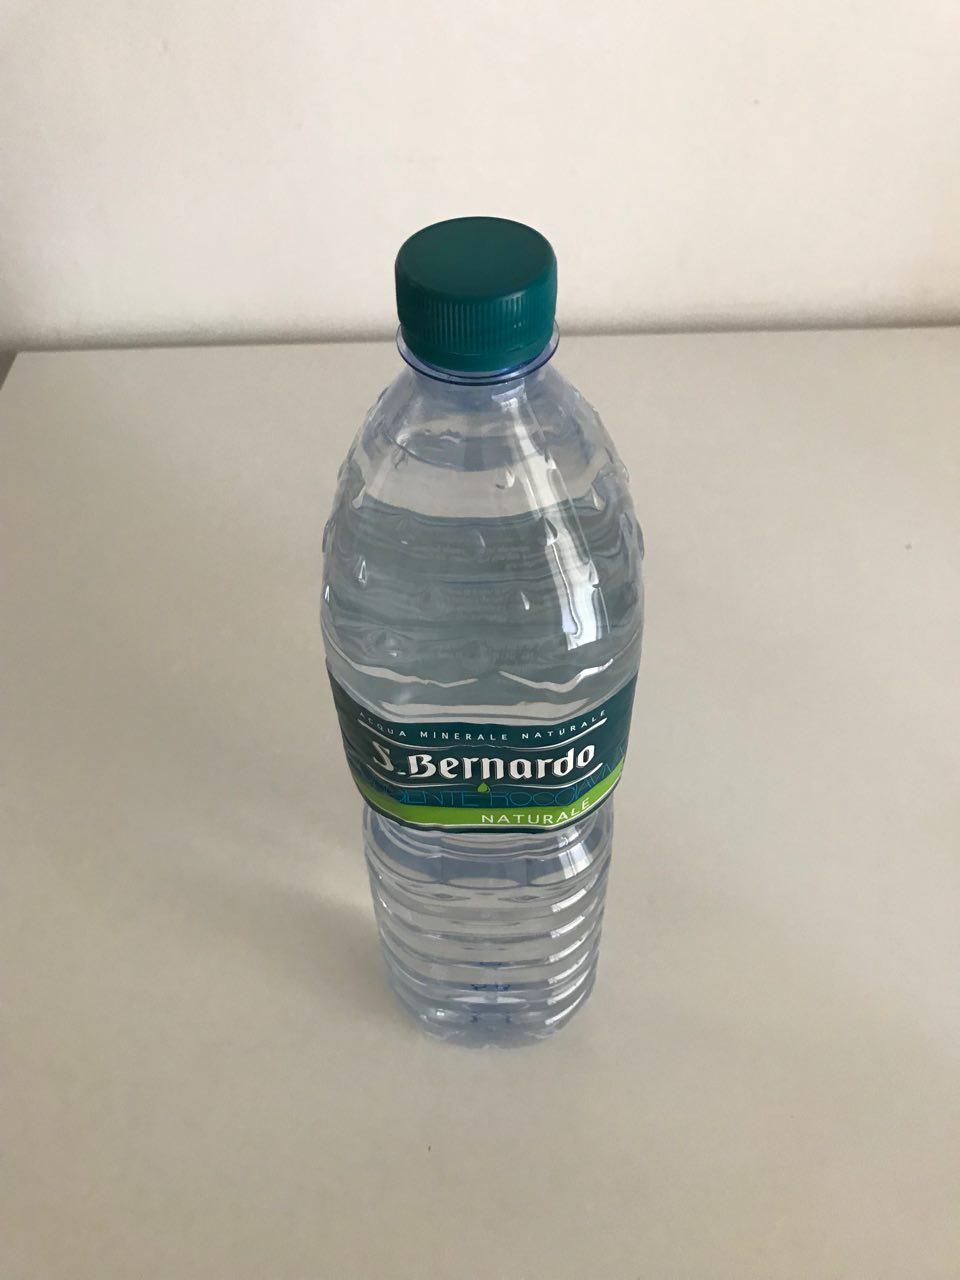san_bernardo: (316, 216, 649, 1050)
